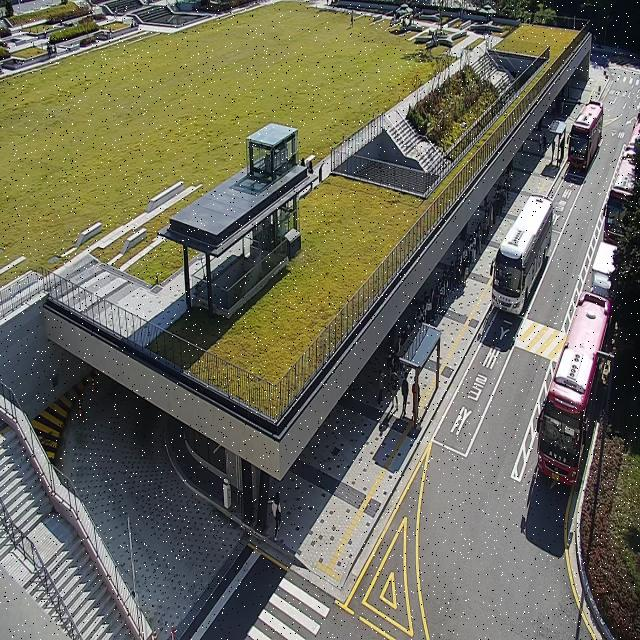queue: (418, 169, 514, 434)
